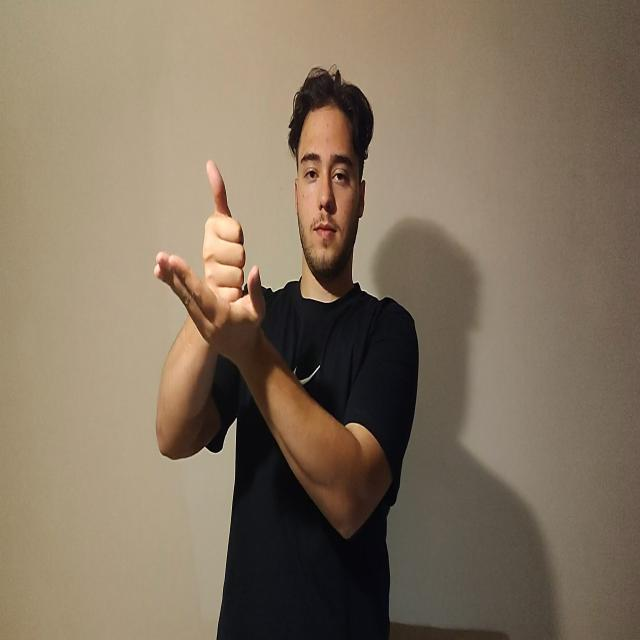help: (155, 162, 269, 354)
